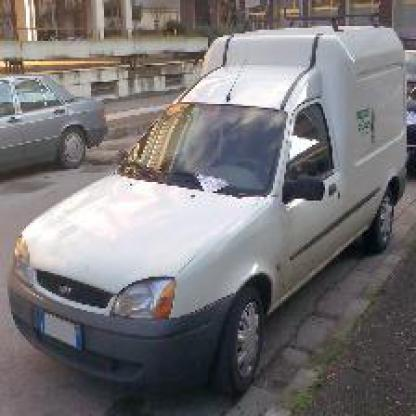not_emergency: (6, 4, 414, 397)
